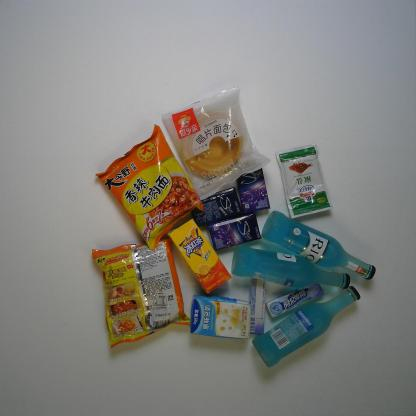Alcohol: (252, 286, 361, 368), (261, 210, 376, 280), (231, 244, 351, 290)
Candy: (265, 284, 325, 318), (248, 277, 267, 335)
Dessert: (161, 86, 271, 201)
Drink: (167, 218, 232, 294)
Gum: (191, 186, 242, 228), (207, 212, 262, 250), (236, 168, 271, 214)
Instant Noodles: (95, 124, 204, 250), (92, 237, 191, 349)
Milk: (190, 294, 252, 340)
Seasoner: (275, 142, 334, 220)
